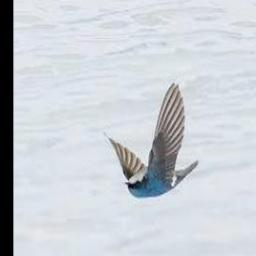Swallow: (105, 85, 200, 200)
